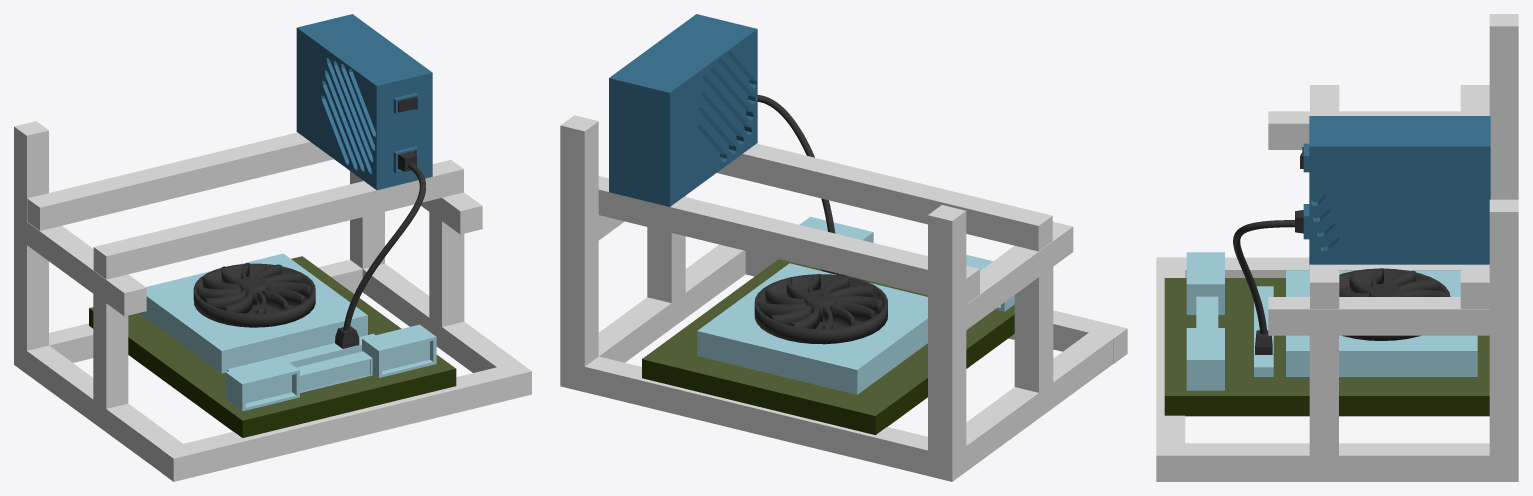
The model's file is cryptofarm_tier3.fbx.
3 renders of one model, left to right at view 1: azimuth 30°, elevation 25°; view 2: azimuth 150°, elevation 25°; view 3: azimuth 270°, elevation 25°, orthographic. The views are drawn at different scales.
Parts seen in each view (by area): view 1: Cube.012, Cube.006, Cube, Cube.001, Cylinder.001, Cube.002, Cylinder, Cube.003, Cube.004, cable, Cube.005; view 2: Cube.012, Cube.006, Cube, Cube.001, Cylinder.001, Cylinder, cable, Cube.003; view 3: Cube.012, Cube.006, Cube, Cube.001, Cube.003, Cube.002, Cylinder.001, Cylinder, cable, Cube.005, Cube.004, Cube.009.
Boxes of the visible parts, bbox=[...] form: Cube.012: bbox=[14, 121, 531, 481]; Cube.006: bbox=[296, 14, 432, 190]; Cube: bbox=[89, 256, 456, 437]; Cube.001: bbox=[139, 253, 367, 373]; Cylinder.001: bbox=[196, 263, 311, 313]; Cube.002: bbox=[225, 358, 299, 411]; Cylinder: bbox=[193, 263, 315, 327]; Cube.003: bbox=[362, 324, 436, 377]; Cube.004: bbox=[296, 351, 372, 392]; cable: bbox=[343, 162, 425, 330]; Cube.005: bbox=[227, 333, 375, 371]; Cube.012: bbox=[560, 115, 1127, 481]; Cube.006: bbox=[609, 14, 757, 206]; Cube: bbox=[642, 259, 1014, 434]; Cube.001: bbox=[697, 263, 927, 394]; Cylinder.001: bbox=[757, 274, 882, 328]; Cylinder: bbox=[754, 274, 887, 344]; cable: bbox=[757, 95, 835, 233]; Cube.003: bbox=[799, 216, 873, 242]; Cube.012: bbox=[1156, 14, 1518, 481]; Cube.006: bbox=[1303, 116, 1490, 264]; Cube: bbox=[1164, 278, 1489, 416]; Cube.001: bbox=[1286, 270, 1477, 376]; Cube.003: bbox=[1186, 328, 1224, 390]; Cube.002: bbox=[1186, 252, 1224, 314]; Cylinder.001: bbox=[1339, 268, 1446, 296]; Cylinder: bbox=[1339, 268, 1450, 340]; cable: bbox=[1233, 220, 1294, 334]; Cube.005: bbox=[1254, 286, 1273, 376]; Cube.004: bbox=[1196, 296, 1218, 327]; Cube.009: bbox=[1255, 330, 1272, 354].
Size of the model in its own units: 216 by 161 by 167.
